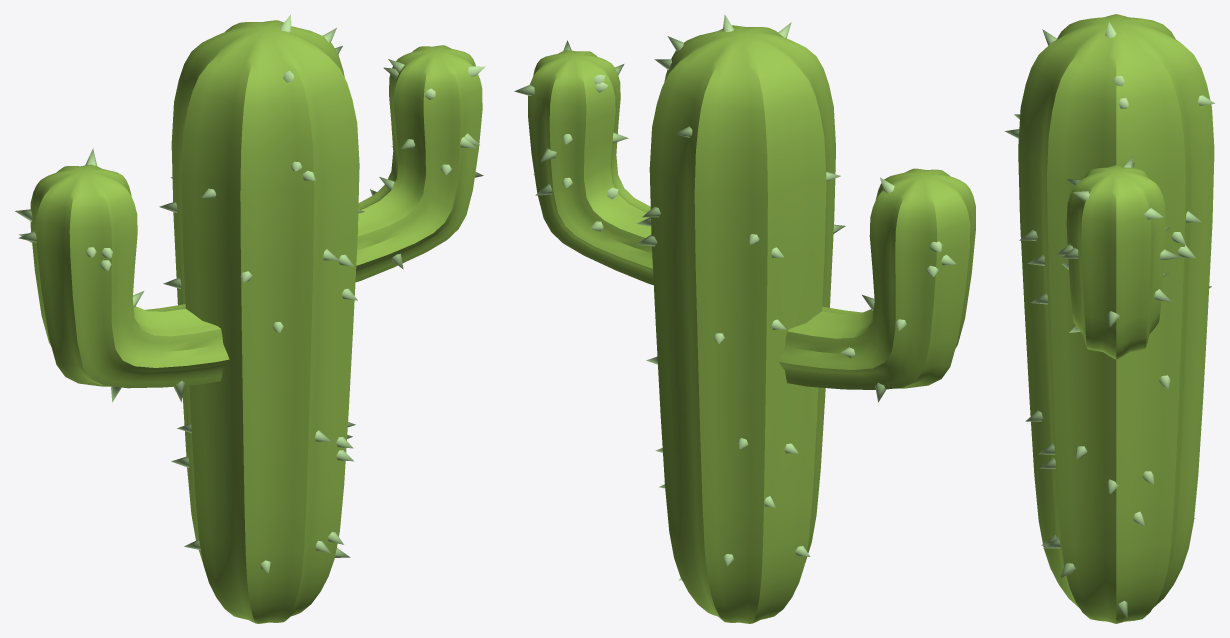
Rendered from Cactus_01.fbx.
3 renders of one model, left to right at view 1: azimuth 30°, elevation 25°; view 2: azimuth 150°, elevation 25°; view 3: azimuth 270°, elevation 25°, orthographic.
Visible parts, largest first — view 1: Cactus_01_Body, Cactus_01_Spines; view 2: Cactus_01_Body, Cactus_01_Spines; view 3: Cactus_01_Body, Cactus_01_Spines.
Part boxes in pixels (<box>): Cactus_01_Body: <box>30,20,482,623</box>; Cactus_01_Spines: <box>15,14,485,573</box>; Cactus_01_Body: <box>528,25,975,623</box>; Cactus_01_Spines: <box>514,14,956,580</box>; Cactus_01_Body: <box>1018,14,1214,623</box>; Cactus_01_Spines: <box>1004,22,1214,618</box>.
Bounding box in the file's own units: 3.36 × 4.31 × 1.37.
